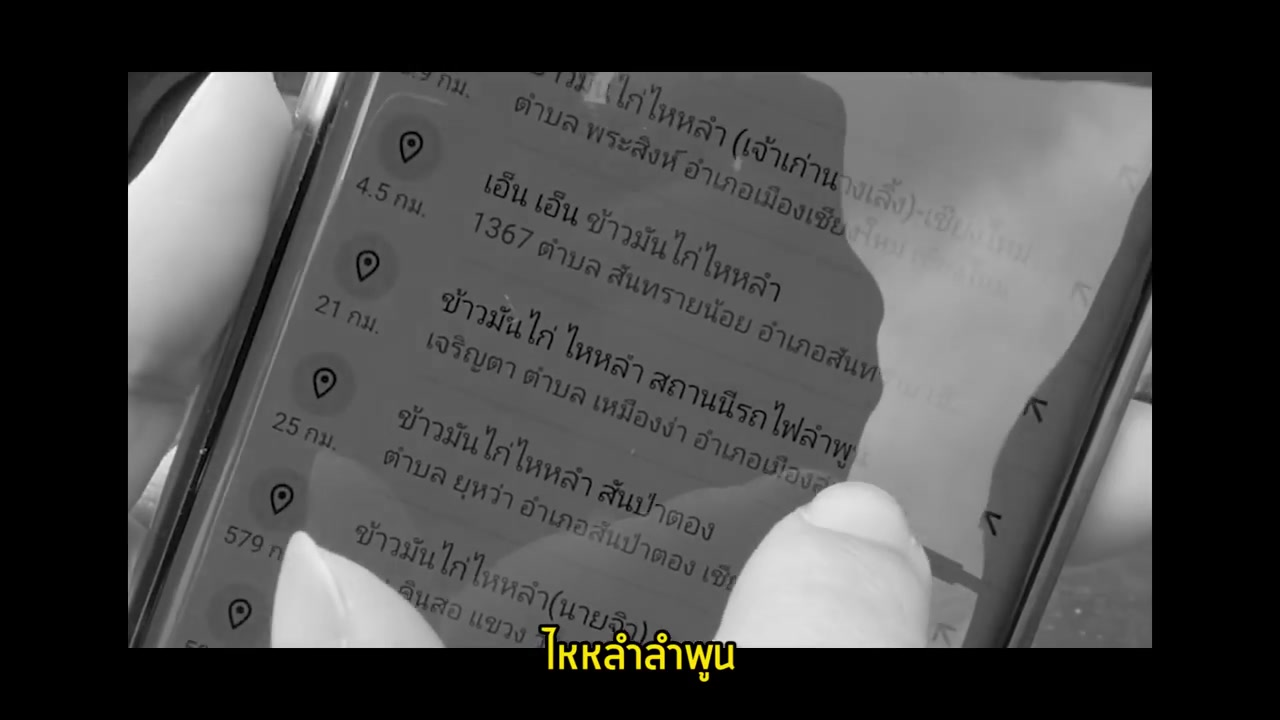text-label: (534, 618, 742, 683)
